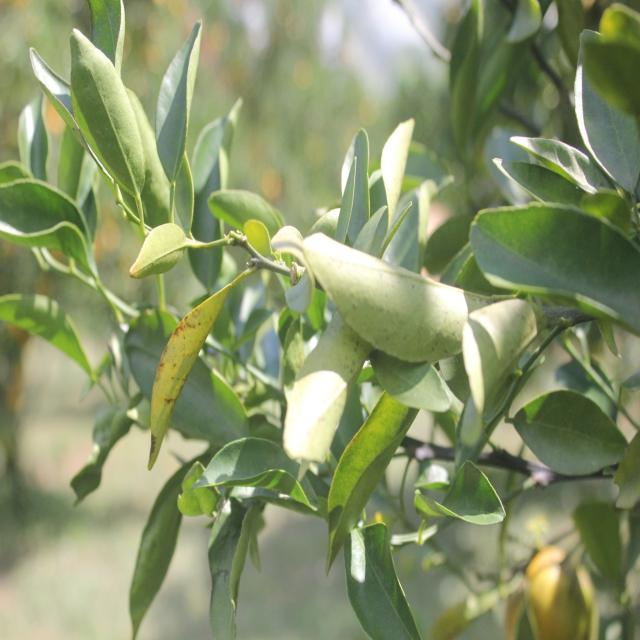melanose: (308, 214, 496, 360), (138, 275, 236, 473)
